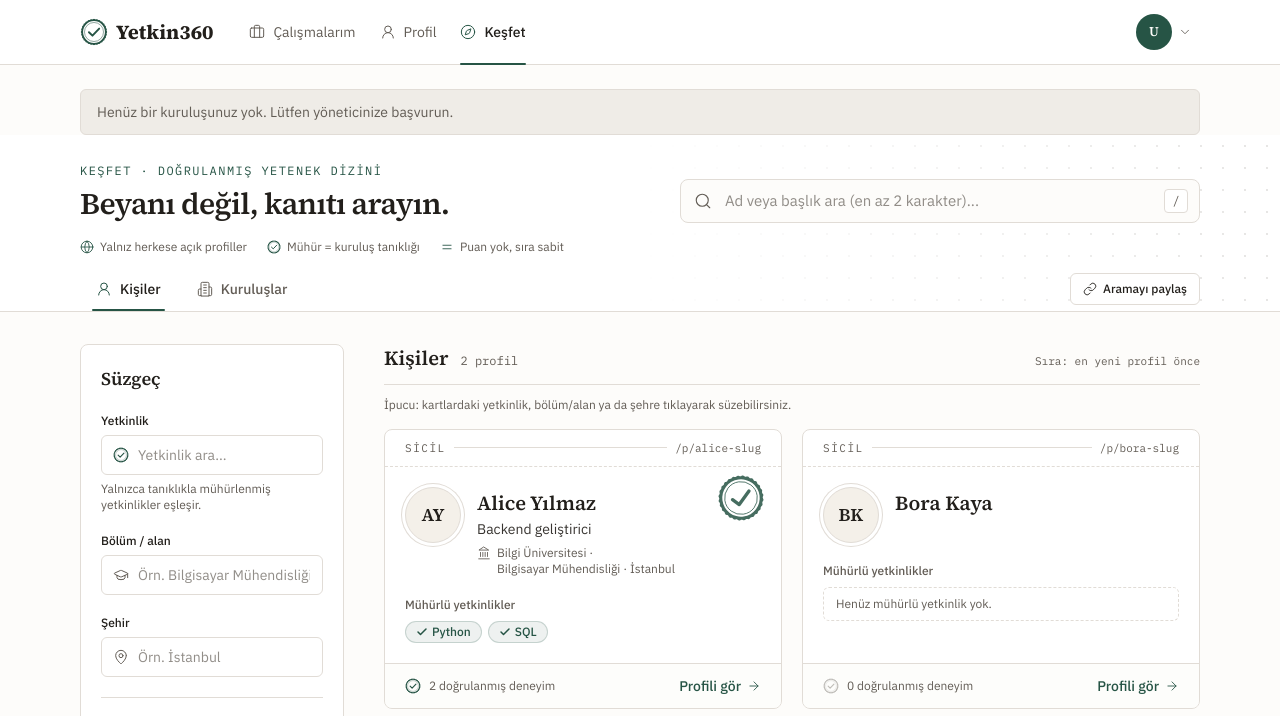
Test: KesfetPage (/kesfet) › Öğrenciler sekmesi › bölüm filtresi çip olarak görünür; boş sonuçta filtreler temizlenebilir
Expected: the heading "Alice Yılmaz" is shown, [477,489,596,517]
Type "Hukuk" into the field labelled "Bölüm / alan" at (212, 574), box [101,554,323,594]
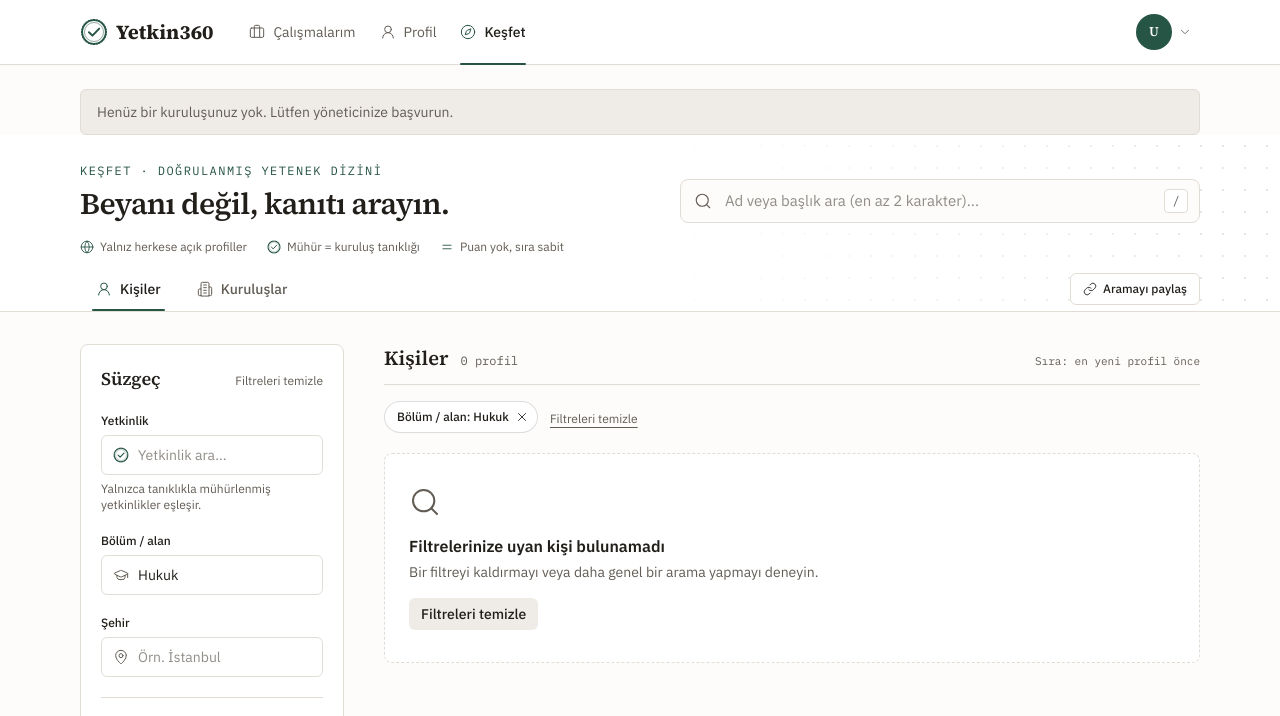
Result: the button with aria-label "Bölüm / alan: Hukuk filtresini kaldır" is shown at [384,400,538,432]
Result: the text "Filtrelerinize uyan kişi bulunamadı" is shown at [409,536,665,556]
Click the button "Filtreleri temizle" next to "Süzgeç" at (279, 380), box [235,372,323,388]
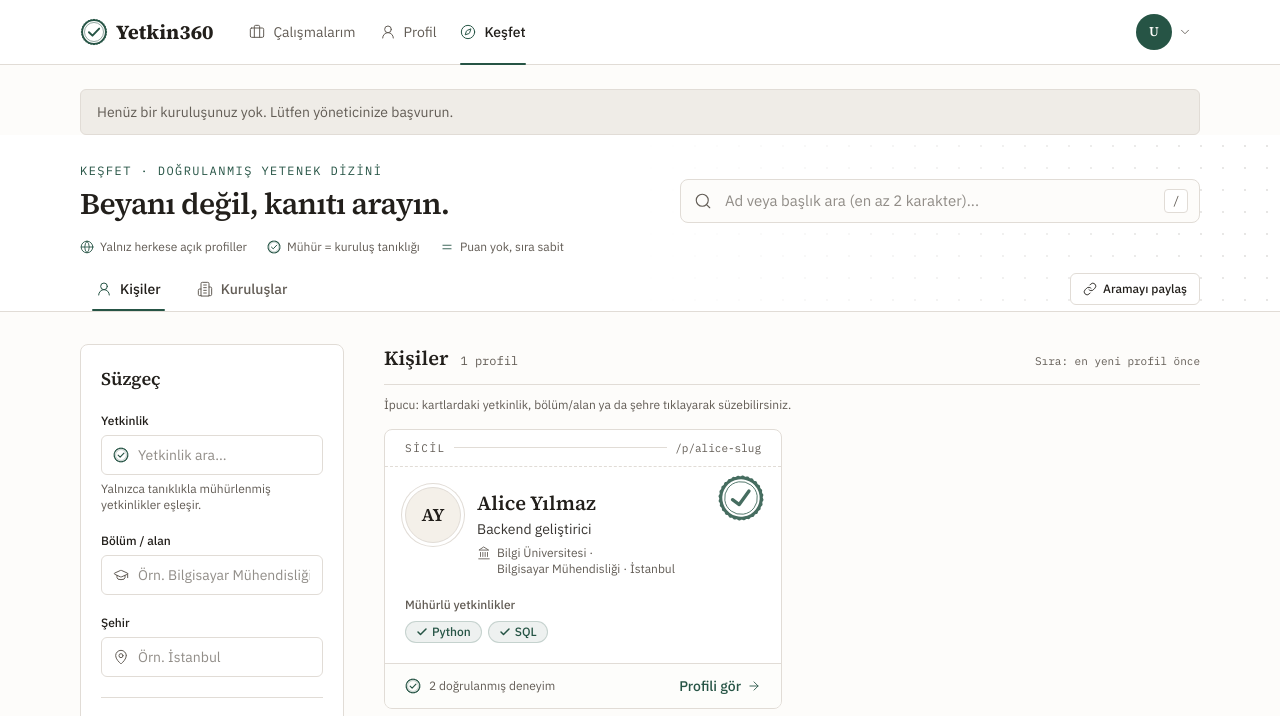
Result: the heading "Alice Yılmaz" is shown at [477,489,596,517]
Result: the field labelled "Bölüm / alan" is empty at [101,554,323,594]
